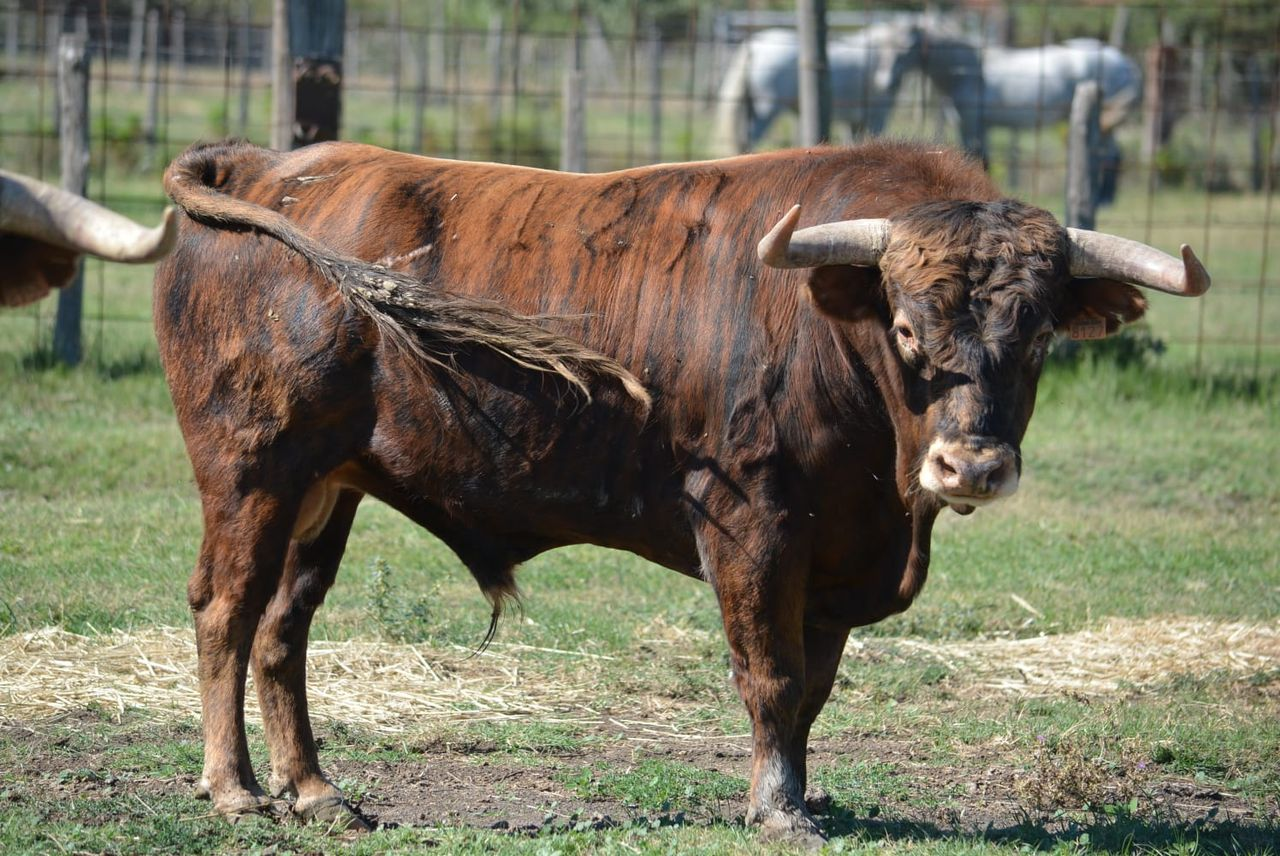bovino: (156, 141, 1209, 833)
